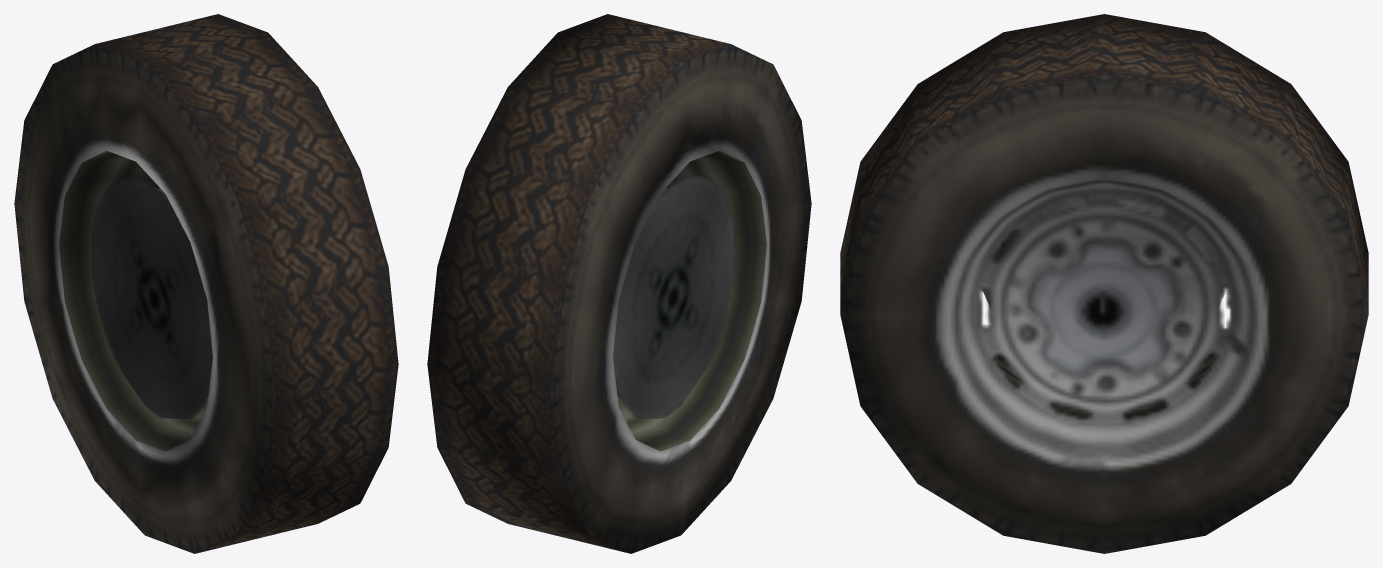
The model's file is wheel_front_right.glb.
3 views of the same model, side by side, from view 1: azimuth 30°, elevation 25°; view 2: azimuth 150°, elevation 25°; view 3: azimuth 270°, elevation 25° (orthographic).
Visible parts, largest first — view 1: tire_fr; view 2: tire_fr; view 3: tire_fr.
Part boxes in pixels (x1,y1,x2,y2): tire_fr: (14, 14, 398, 553); tire_fr: (427, 14, 811, 553); tire_fr: (840, 14, 1368, 553).
Bounding box in the file's own units: 0.1884 × 0.6041 × 0.6041.
1 material, 1 textured.
